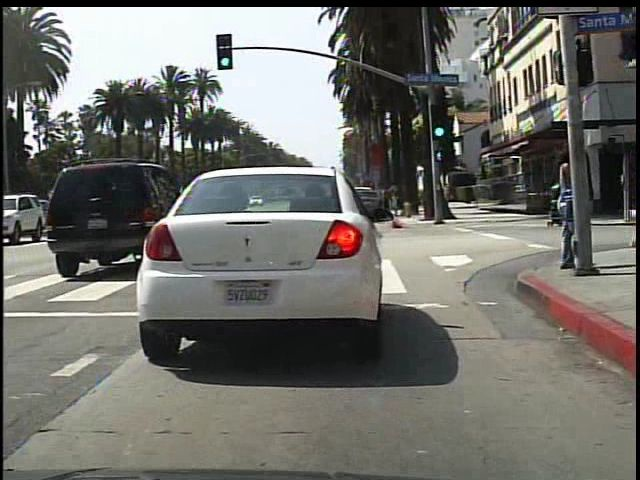person: (535, 140, 576, 273)
